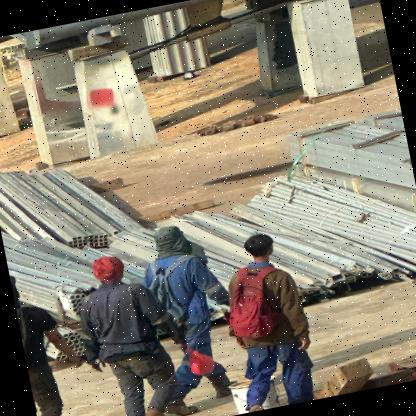bota: (159, 392, 201, 416), (206, 371, 238, 398), (128, 404, 172, 416)
